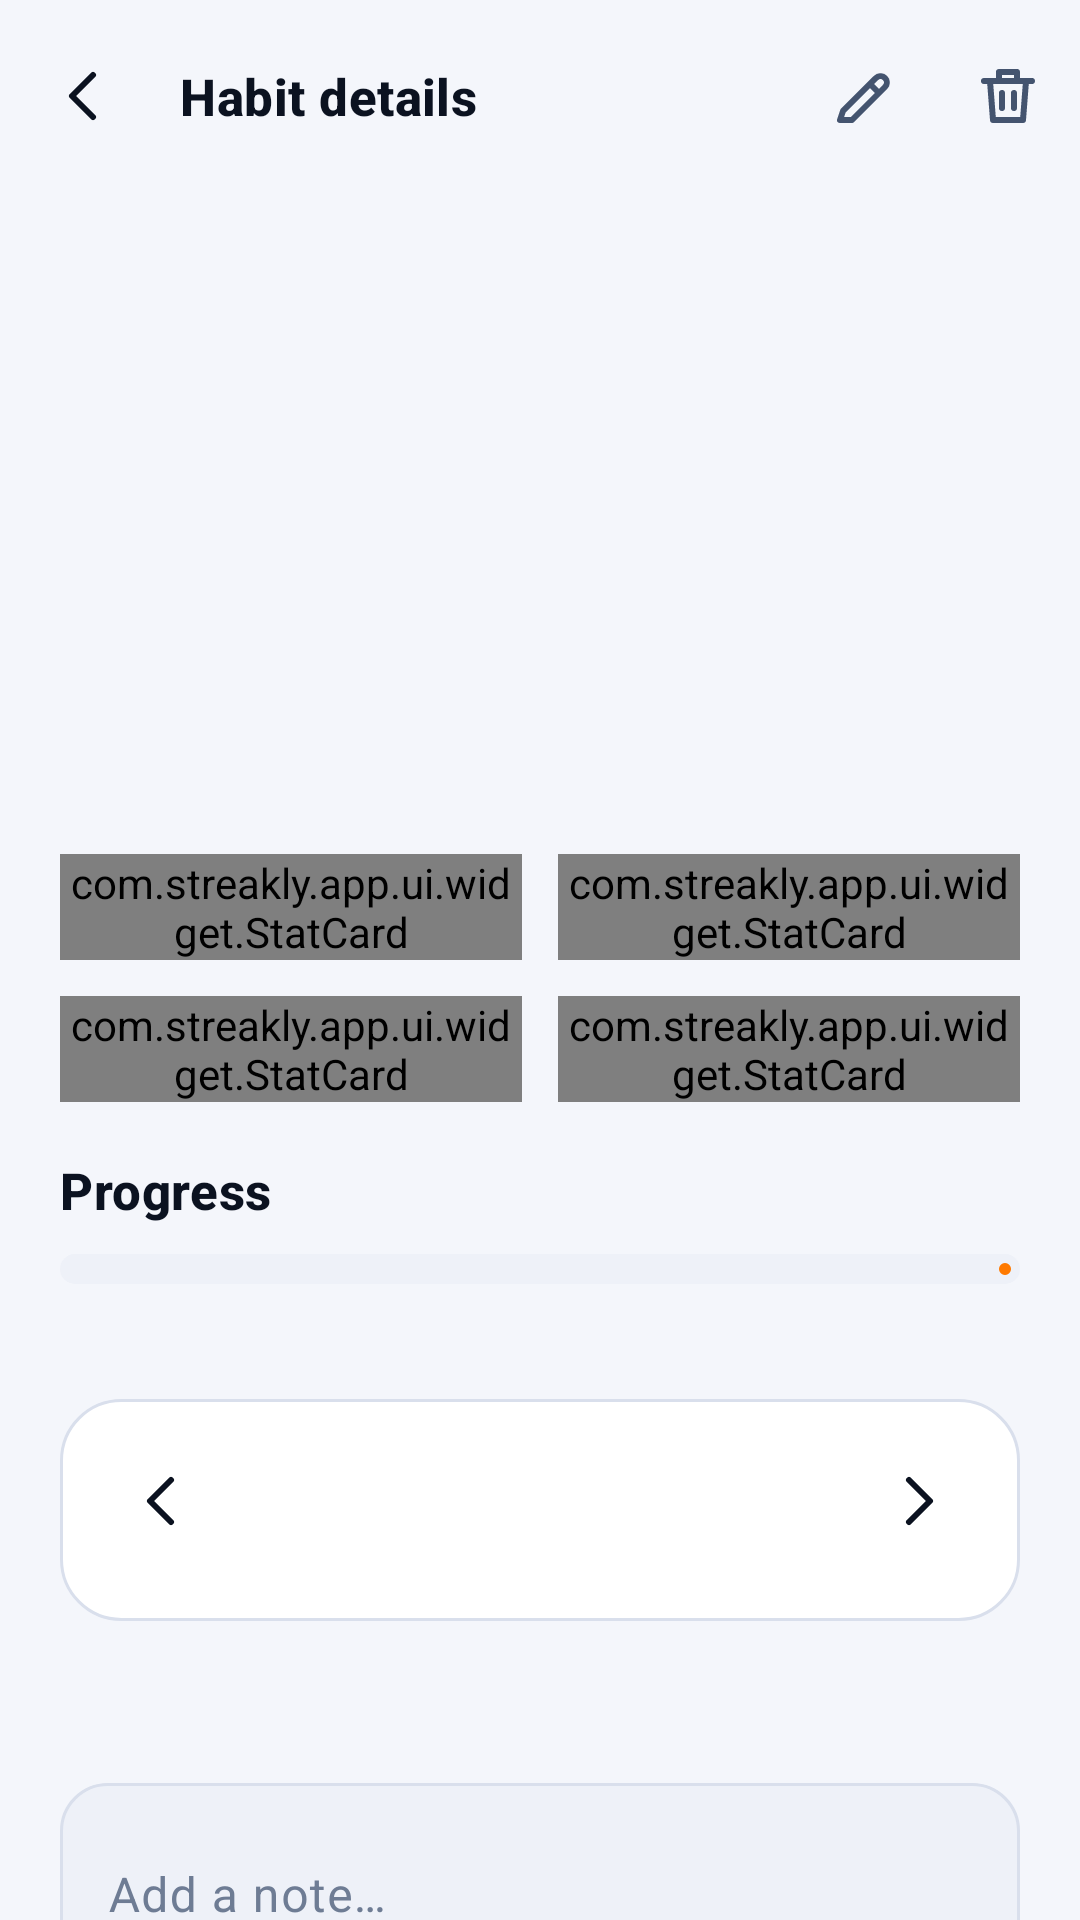

Icons on this 1080px×1920px Android screen, each with the point to tap as point (x, y):
Next month: point (919, 1501)
Previous month: point (160, 1501)
